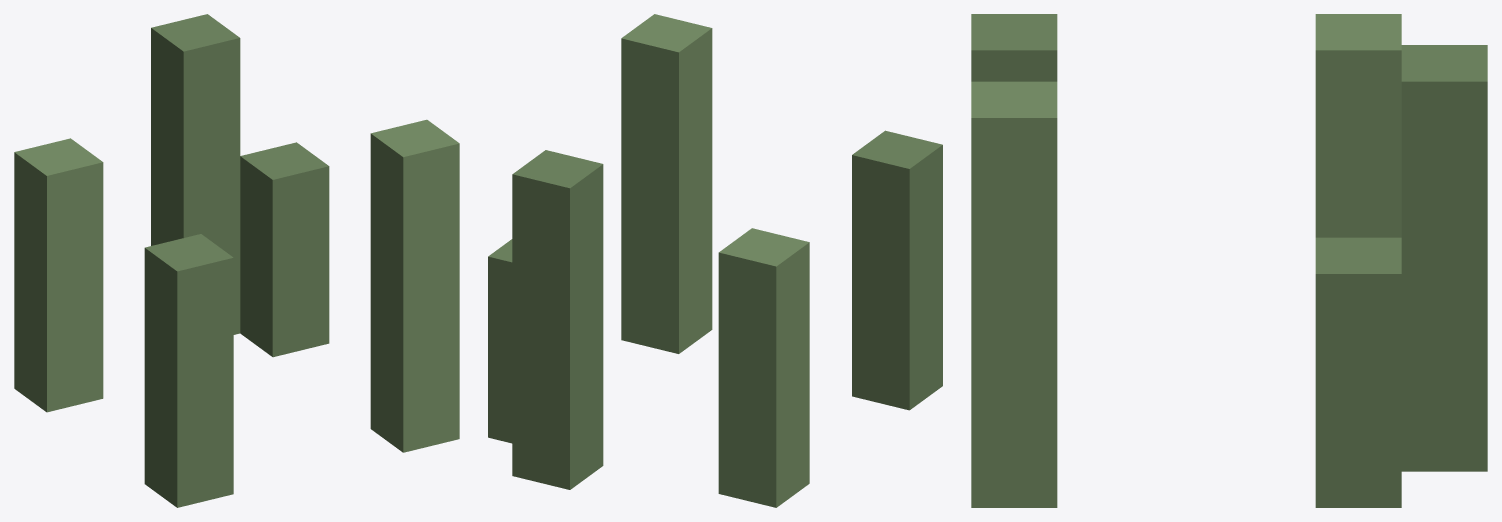
Rendered from musgo_04.glb.
3 renders of one model, left to right at view 1: azimuth 30°, elevation 25°; view 2: azimuth 150°, elevation 25°; view 3: azimuth 270°, elevation 25°, orthographic. The views are drawn at different scales.
Parts seen in each view (by area): view 1: musgo_04; view 2: musgo_04; view 3: musgo_04.
Part boxes in pixels (<box>): musgo_04: <box>14,14,459,507</box>; musgo_04: <box>488,14,942,507</box>; musgo_04: <box>971,14,1487,507</box>.
Bounding box in the file's own units: 0.5 × 0.5 × 0.6.
